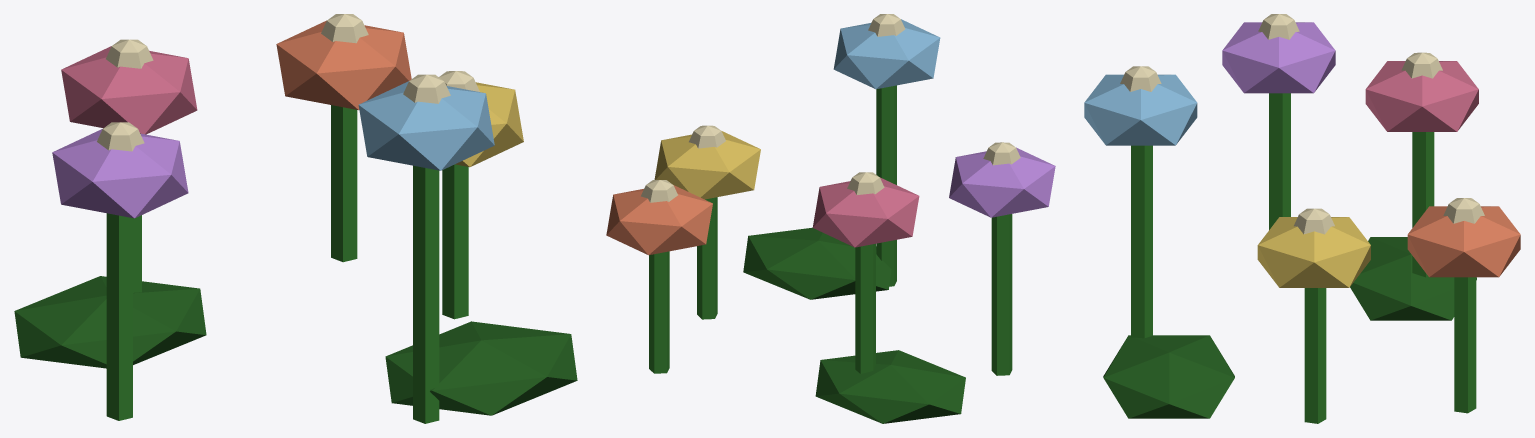
Rendered from Garden_Flowers.glb.
3 renders of one model, left to right at view 1: azimuth 30°, elevation 25°; view 2: azimuth 150°, elevation 25°; view 3: azimuth 270°, elevation 25°, orthographic. The views are drawn at different scales.
Visible parts, largest first — view 1: GardenFlowers; view 2: GardenFlowers; view 3: GardenFlowers.
Boxes of the visible parts, x1=… form: GardenFlowers: x1=14, y1=14, x2=577, y2=423; GardenFlowers: x1=606, y1=14, x2=1055, y2=423; GardenFlowers: x1=1084, y1=14, x2=1520, y2=423.
Bounding box in the file's own units: 0.9832 × 0.696 × 0.9021.
